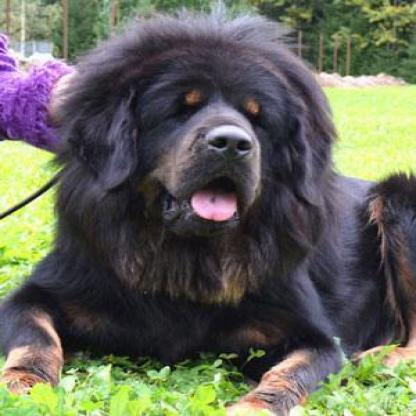Tibetan_mastiff: (0, 1, 413, 414)
